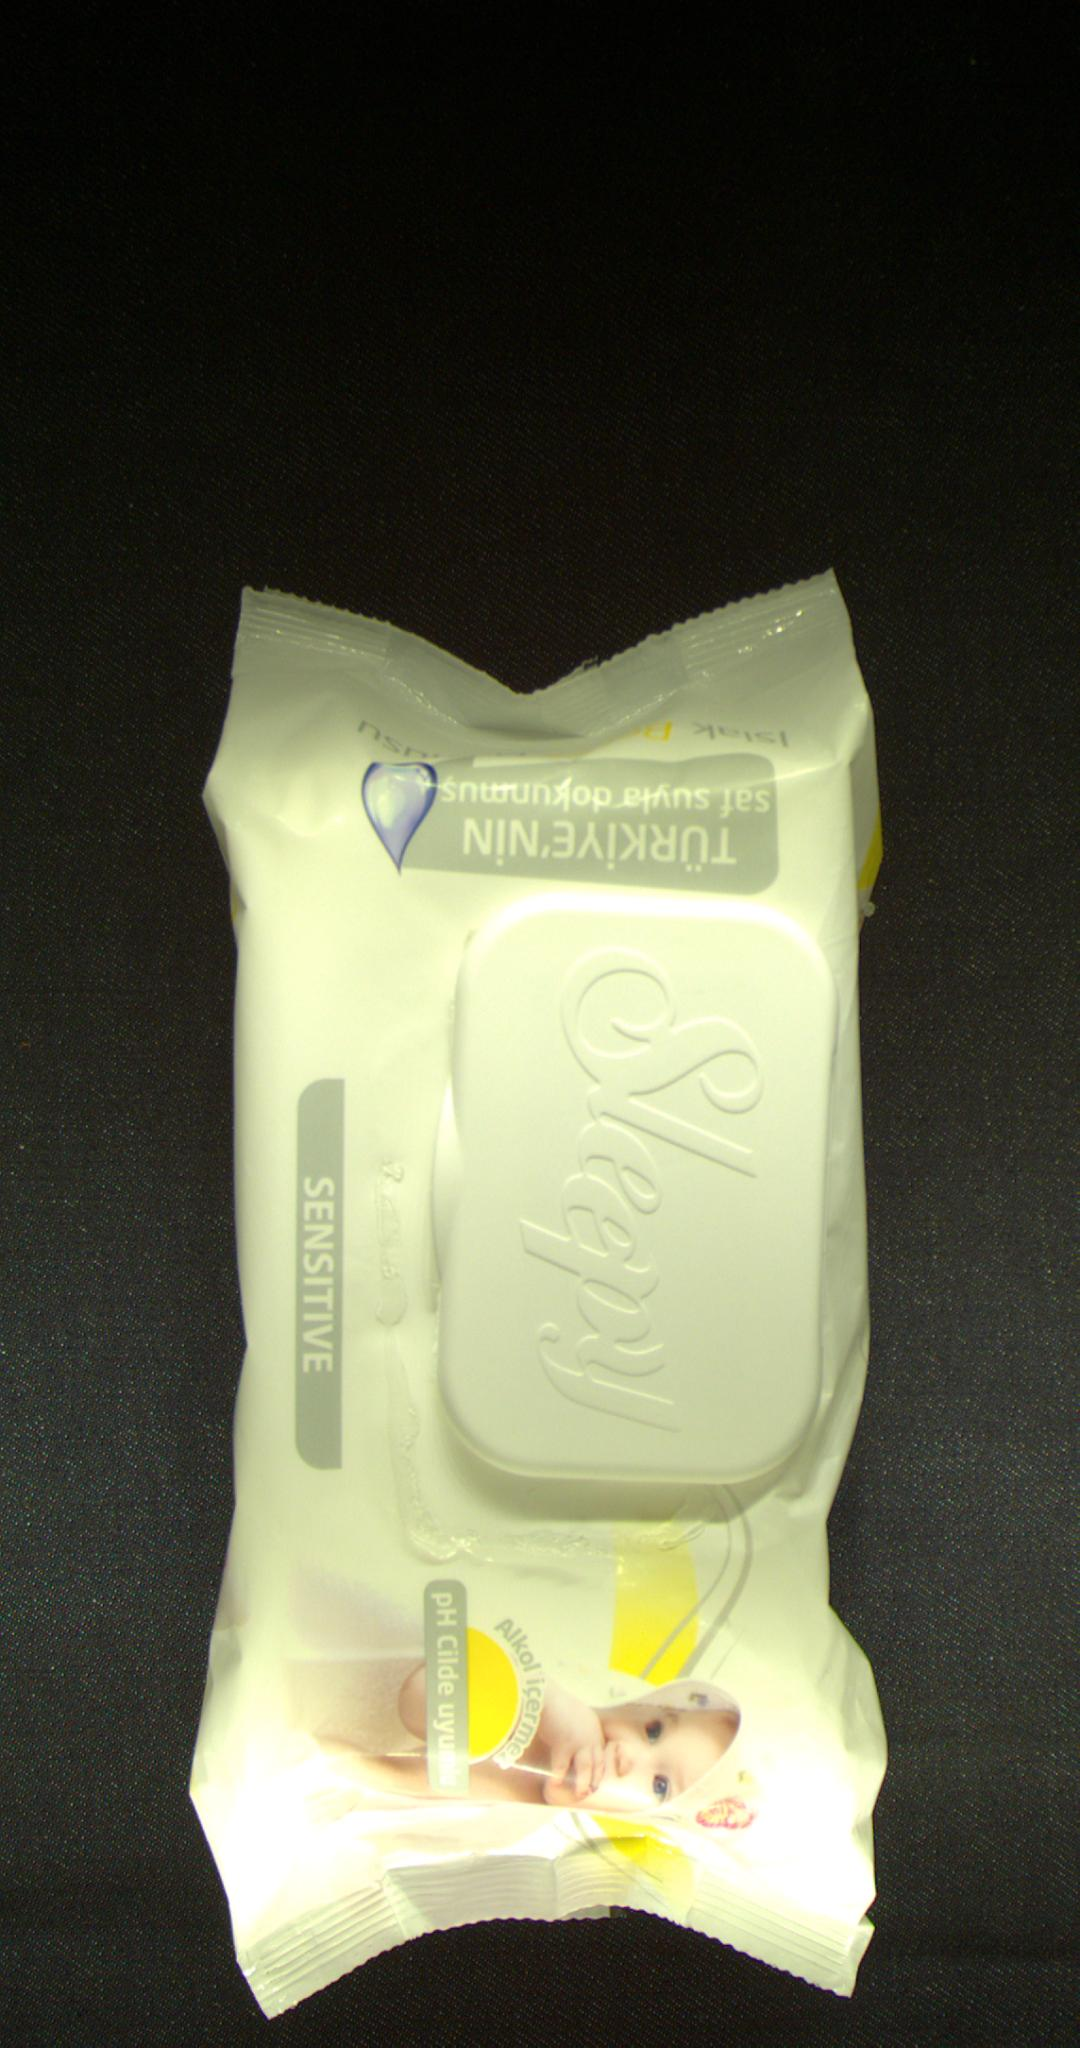kapak: (435, 887, 831, 1497)
